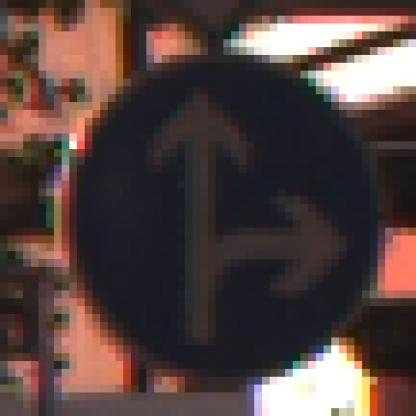Straight or Right: (47, 48, 371, 378)
